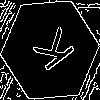K: (25, 25, 76, 80)
